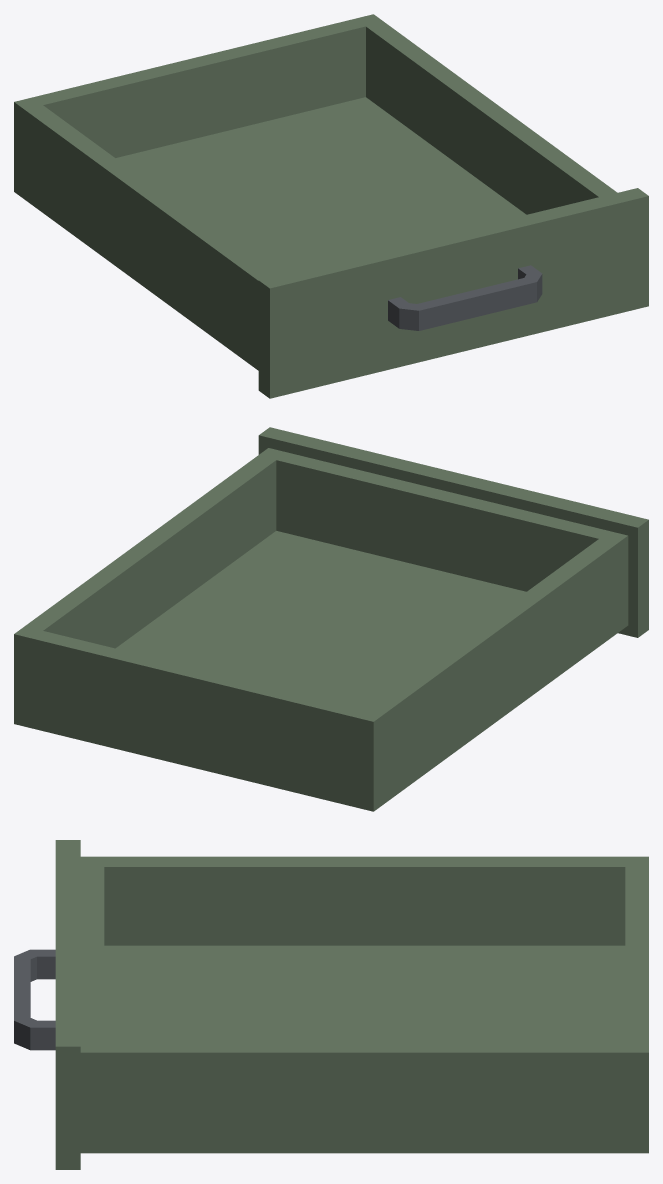
Rendered from SM_Prop_WorkBench_01_Drawer_01.fbx.
3 views of the same model, one above another, from view 1: azimuth 30°, elevation 25°; view 2: azimuth 150°, elevation 25°; view 3: azimuth 270°, elevation 25° (orthographic). The views are drawn at different scales.
Parts seen in each view (by area): view 1: SM_Prop_WorkBench_01_Drawer_01; view 2: SM_Prop_WorkBench_01_Drawer_01; view 3: SM_Prop_WorkBench_01_Drawer_01.
Part boxes in pixels (x1,y1,x2,y2): SM_Prop_WorkBench_01_Drawer_01: [14, 14, 648, 398]; SM_Prop_WorkBench_01_Drawer_01: [14, 427, 648, 811]; SM_Prop_WorkBench_01_Drawer_01: [14, 840, 648, 1169].
Size of the model in its own units: 61.62 by 17.13 by 80.04.
